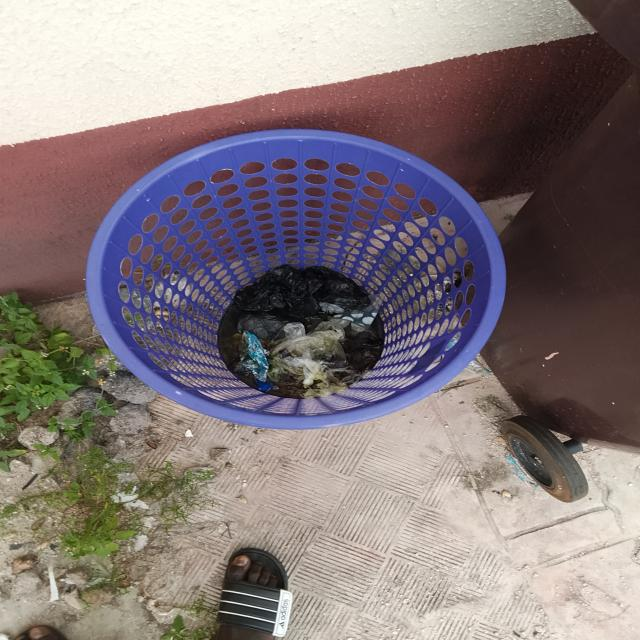empty: (86, 122, 513, 427)
